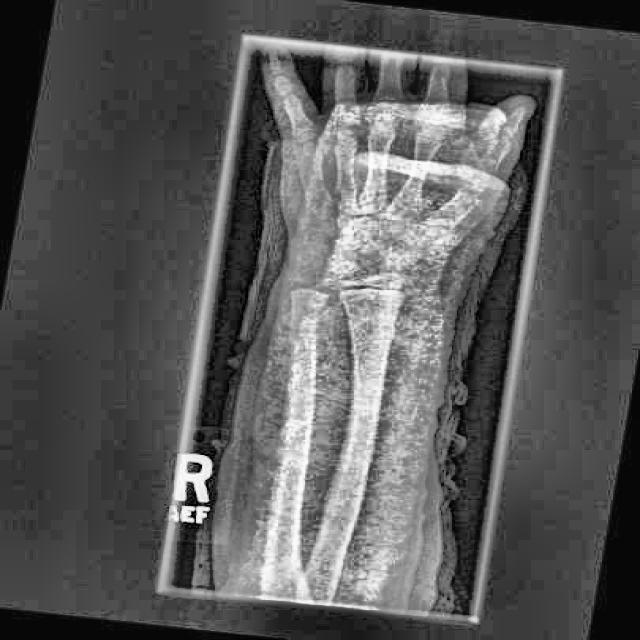fingers positive: (282, 200, 490, 356)
